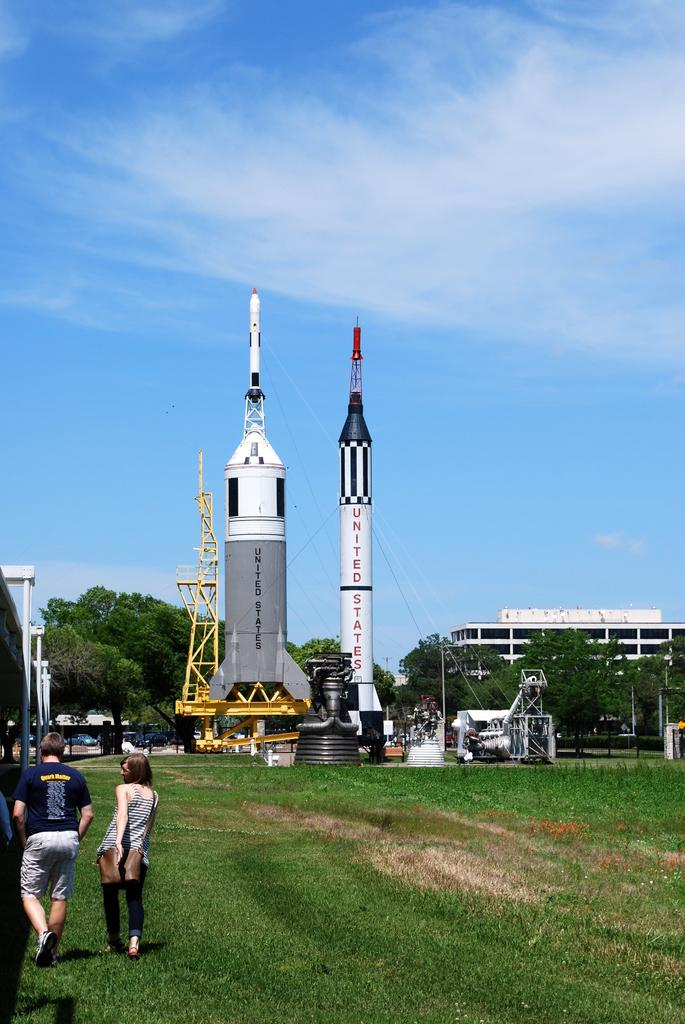Missile: (331, 310, 391, 739)
